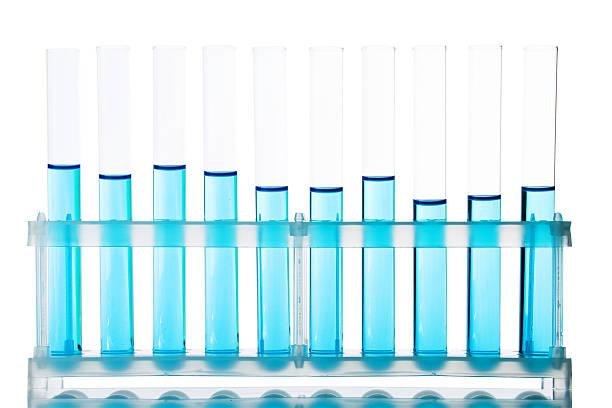Test tube: (44, 31, 138, 373), (357, 35, 406, 356), (459, 39, 504, 364), (200, 36, 245, 352), (307, 34, 344, 363)
object: (144, 22, 195, 354)
